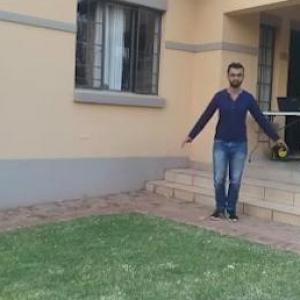land: (177, 73, 278, 234)
